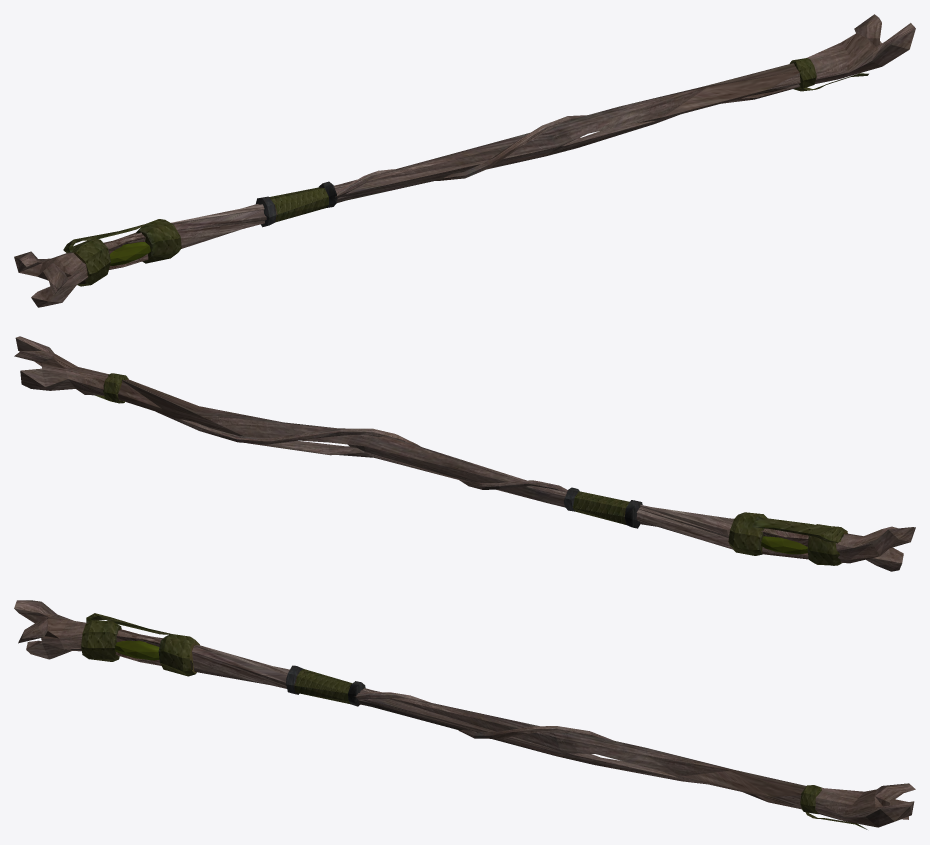
File: G3_WEAPON_STAFF_MANA_03.glb
3 renders of one model, top to bottom at view 1: azimuth 30°, elevation 25°; view 2: azimuth 150°, elevation 25°; view 3: azimuth 330°, elevation 25°, orthographic. The views are drawn at different scales.
Visible parts, largest first — view 1: G3_WEAPON_STAFF_MANA_03; view 2: G3_WEAPON_STAFF_MANA_03; view 3: G3_WEAPON_STAFF_MANA_03.
Boxes of the visible parts, <box> form: G3_WEAPON_STAFF_MANA_03: <box>14,14,915,307</box>; G3_WEAPON_STAFF_MANA_03: <box>14,336,915,571</box>; G3_WEAPON_STAFF_MANA_03: <box>14,600,915,829</box>.
Size of the model in its own units: 1.98 by 0.1096 by 0.2236.
Materials: 1 (1 with a texture image).
